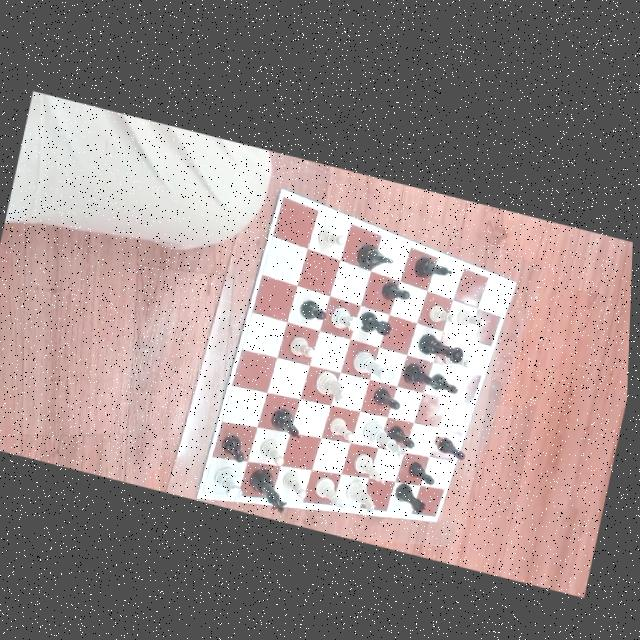chessboard-corner: (191, 489, 204, 497), (437, 509, 445, 520), (514, 270, 521, 278), (279, 178, 286, 186)
